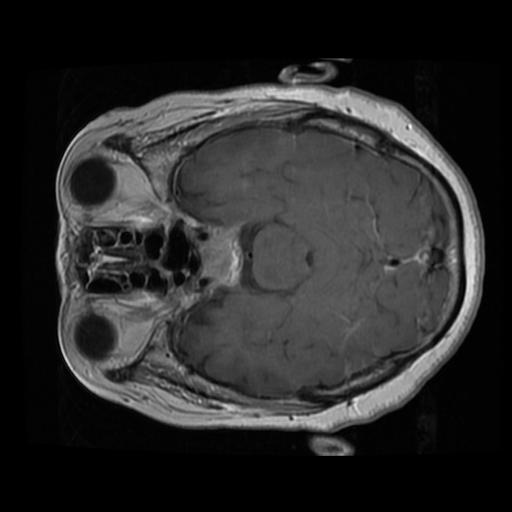pituitary tumour: (200, 230, 241, 282)
